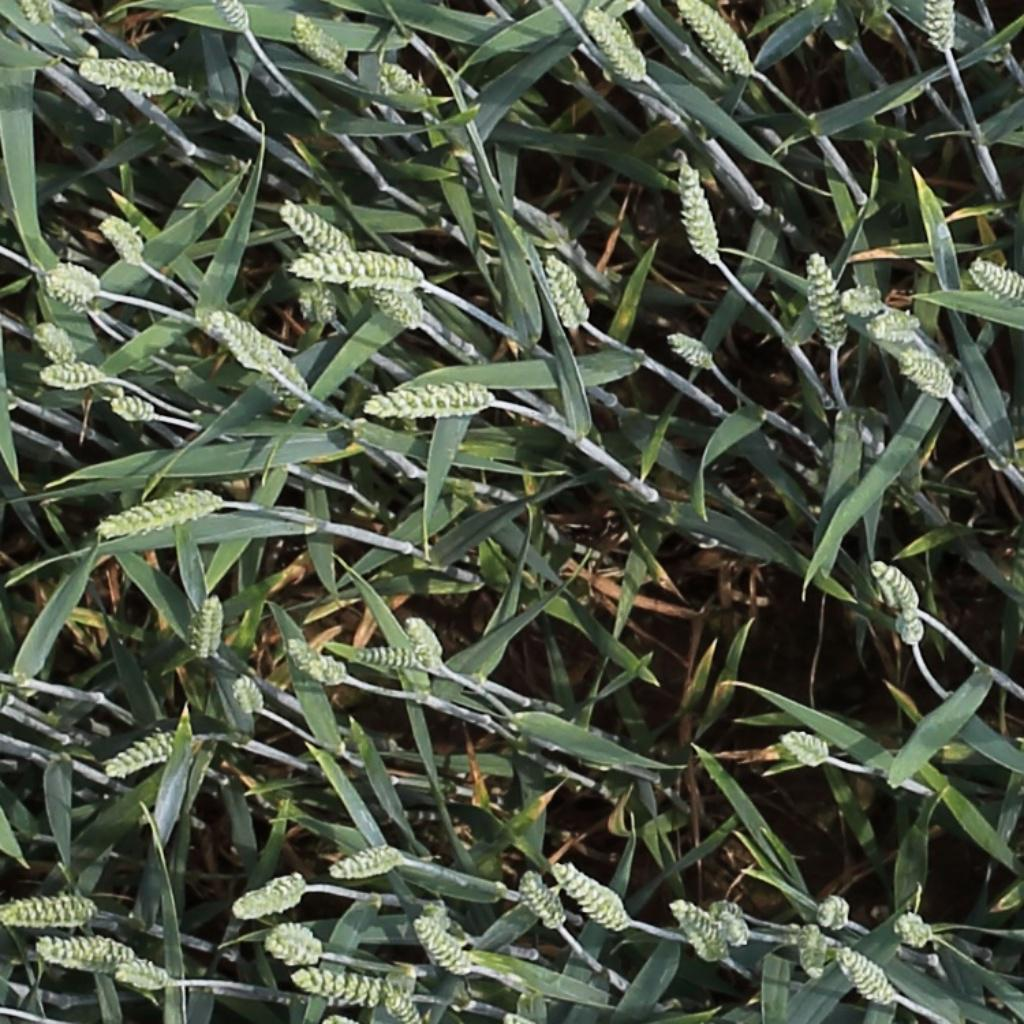0-0: (808, 245, 896, 352), (247, 323, 337, 405), (293, 246, 423, 296), (679, 0, 759, 80), (551, 861, 630, 933), (675, 150, 724, 266), (582, 4, 651, 86), (368, 378, 493, 423), (37, 928, 144, 978), (101, 492, 222, 533), (669, 897, 733, 966), (543, 249, 595, 333), (191, 308, 263, 368), (105, 731, 200, 776), (230, 865, 307, 920), (412, 912, 476, 978), (836, 943, 901, 1007), (292, 970, 393, 1009), (279, 199, 353, 252), (289, 12, 352, 73), (0, 887, 103, 924), (518, 866, 570, 935), (869, 558, 925, 619), (283, 636, 346, 688), (38, 358, 125, 393), (401, 610, 449, 673), (371, 278, 430, 329), (329, 844, 408, 880), (99, 210, 148, 268), (349, 638, 438, 669), (901, 352, 957, 398), (77, 62, 176, 88), (31, 318, 80, 370), (375, 61, 432, 105), (264, 923, 321, 965), (39, 270, 94, 313), (970, 256, 1022, 301), (869, 307, 922, 349), (195, 589, 223, 666), (777, 726, 833, 764), (719, 906, 762, 954), (230, 669, 267, 722), (802, 917, 828, 988), (669, 330, 718, 367), (50, 264, 101, 299), (42, 271, 94, 305), (380, 983, 421, 1024), (929, 0, 957, 60), (896, 607, 930, 656), (819, 892, 853, 937), (111, 965, 173, 989), (215, 0, 255, 36), (109, 398, 169, 422), (21, 0, 67, 31), (895, 914, 937, 947)
